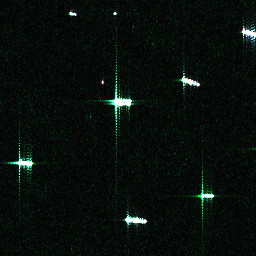ship: (123, 213, 148, 227), (179, 74, 201, 88), (110, 96, 133, 108), (239, 27, 255, 38), (15, 159, 34, 167), (199, 191, 215, 200), (68, 10, 78, 18)
